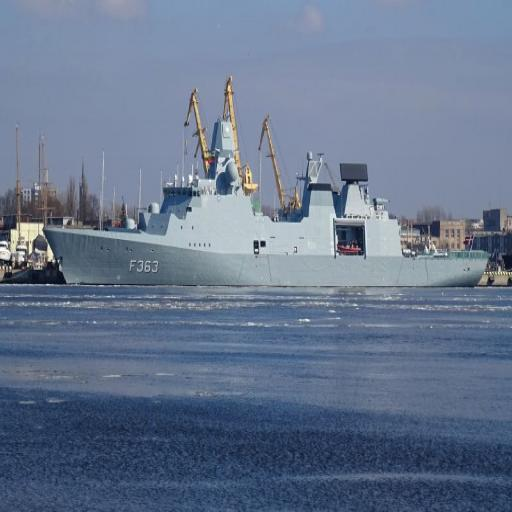Fragata: (37, 102, 490, 291)
